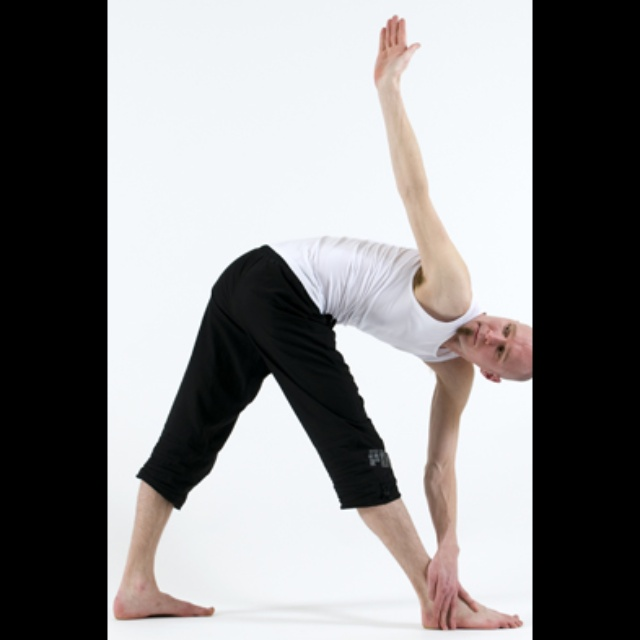Triangle_Pose: (109, 14, 532, 634)
